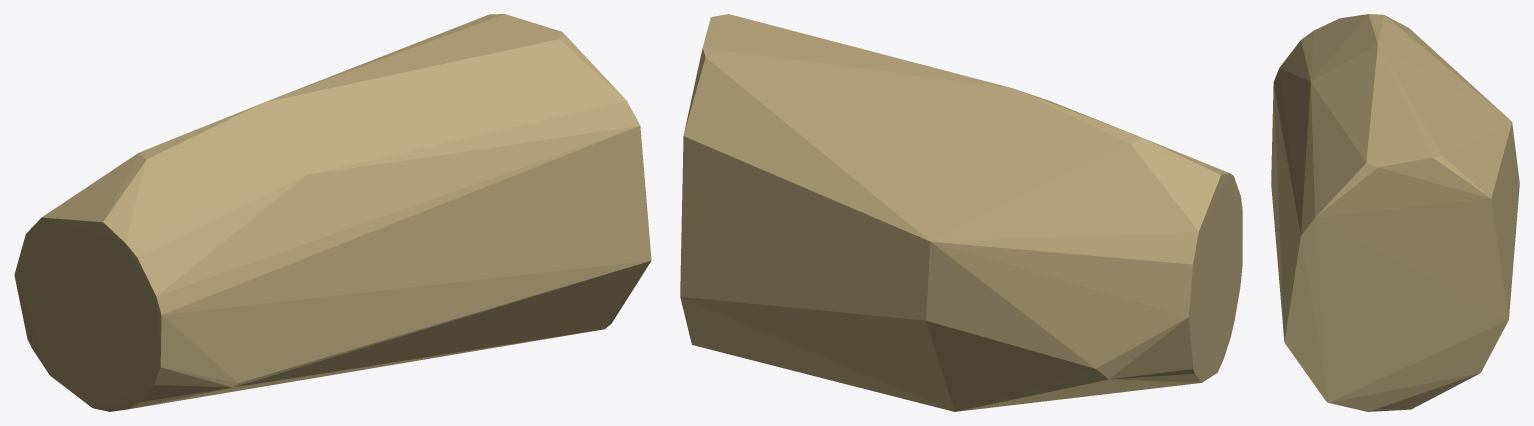
Rendered from exhaustSystem_muffler_d01.glb.
3 views of the same model, side by side, from view 1: azimuth 30°, elevation 25°; view 2: azimuth 150°, elevation 25°; view 3: azimuth 270°, elevation 25° (orthographic). The views are drawn at different scales.
Parts seen in each view (by area): view 1: geometry_0; view 2: geometry_0; view 3: geometry_0.
Part boxes in pixels (x1,y1,x2,y2): geometry_0: [14, 14, 651, 411]; geometry_0: [680, 14, 1242, 411]; geometry_0: [1271, 14, 1519, 411].
Size of the model in its own units: 0.4752 by 0.2572 by 0.2271.
